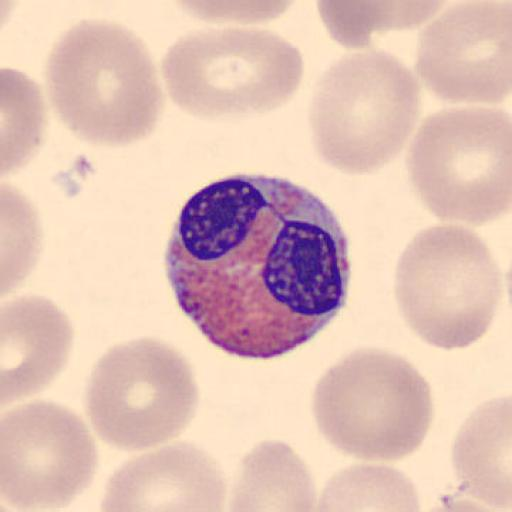RBC: (44, 15, 164, 149), (309, 344, 436, 464), (306, 48, 422, 178), (392, 222, 504, 352), (160, 26, 308, 121), (83, 334, 201, 453), (405, 102, 512, 227), (2, 399, 100, 511), (413, 1, 511, 105), (96, 438, 227, 512), (2, 292, 76, 406), (449, 393, 511, 512), (224, 437, 318, 512), (312, 0, 452, 48), (315, 462, 423, 512), (1, 65, 47, 180), (2, 180, 44, 298), (313, 0, 407, 49), (329, 0, 450, 35), (160, 0, 303, 25), (422, 486, 511, 512), (424, 498, 510, 512)
WBC: (164, 172, 352, 361)
